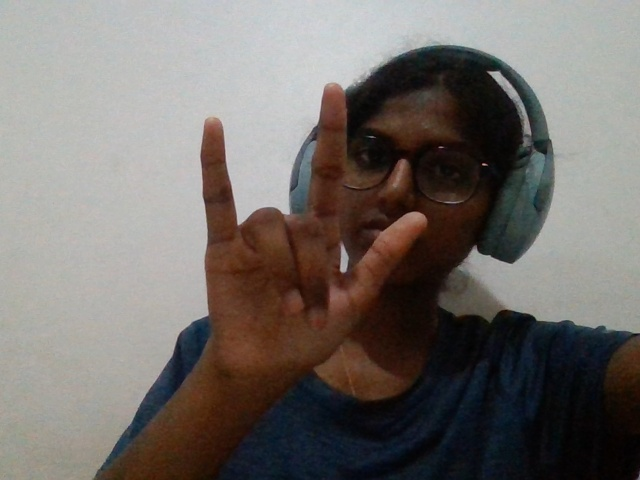I Love You: (151, 74, 460, 429)
